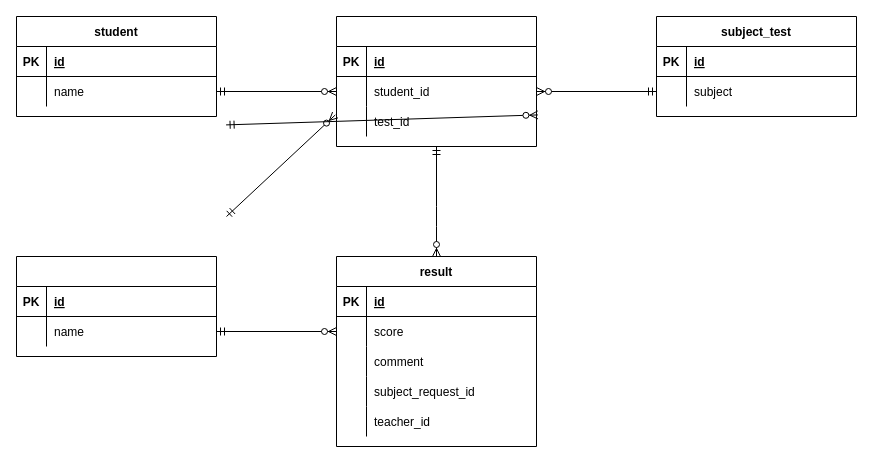
The diagram is 873 pixels wide and 463 high, and some of its shapes have lost their labels. Each missing label, with the box of its shape:
subject_request: (336, 16, 536, 146)
teacher: (16, 256, 216, 356)
